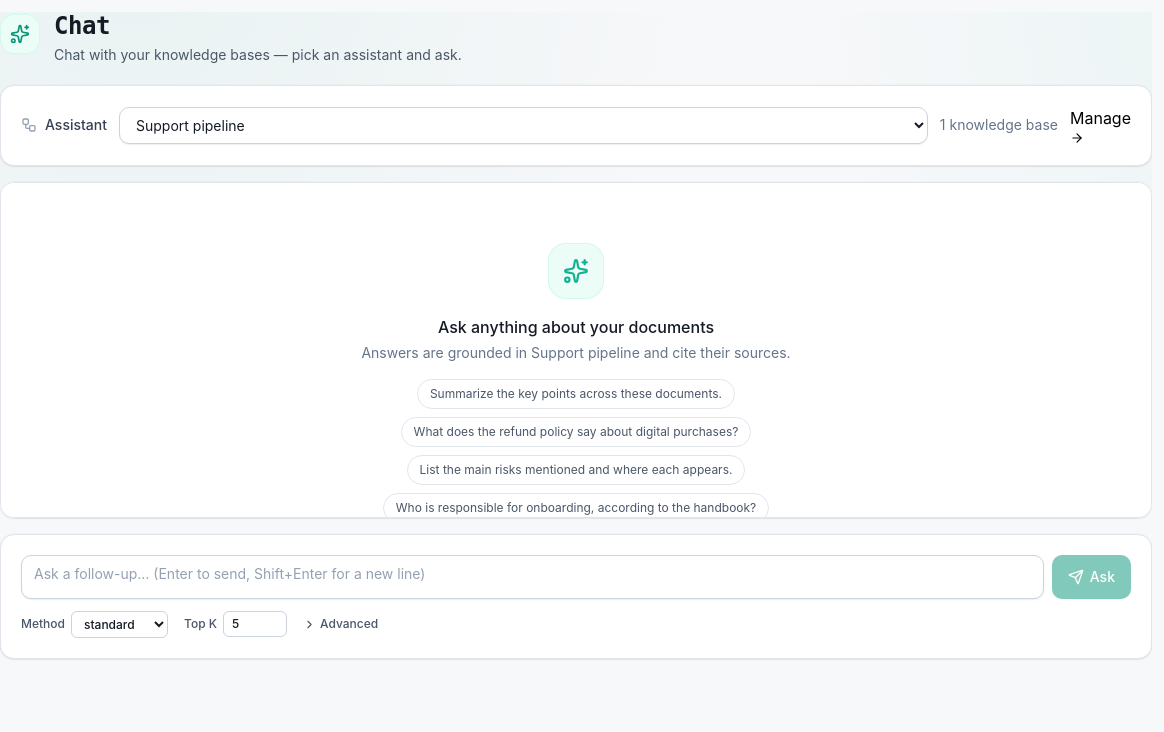
Scenario: AskPage › renders Auto/Manual badges from the response's applied_parameters (#1733)
Expected: the text "Ask anything about your documents" is shown, top-left (438, 317), bottom-right (714, 337)
Replace the text in the number field labelled "Top K" with "12" at (255, 624), box top-left (223, 611), bottom-right (287, 637)
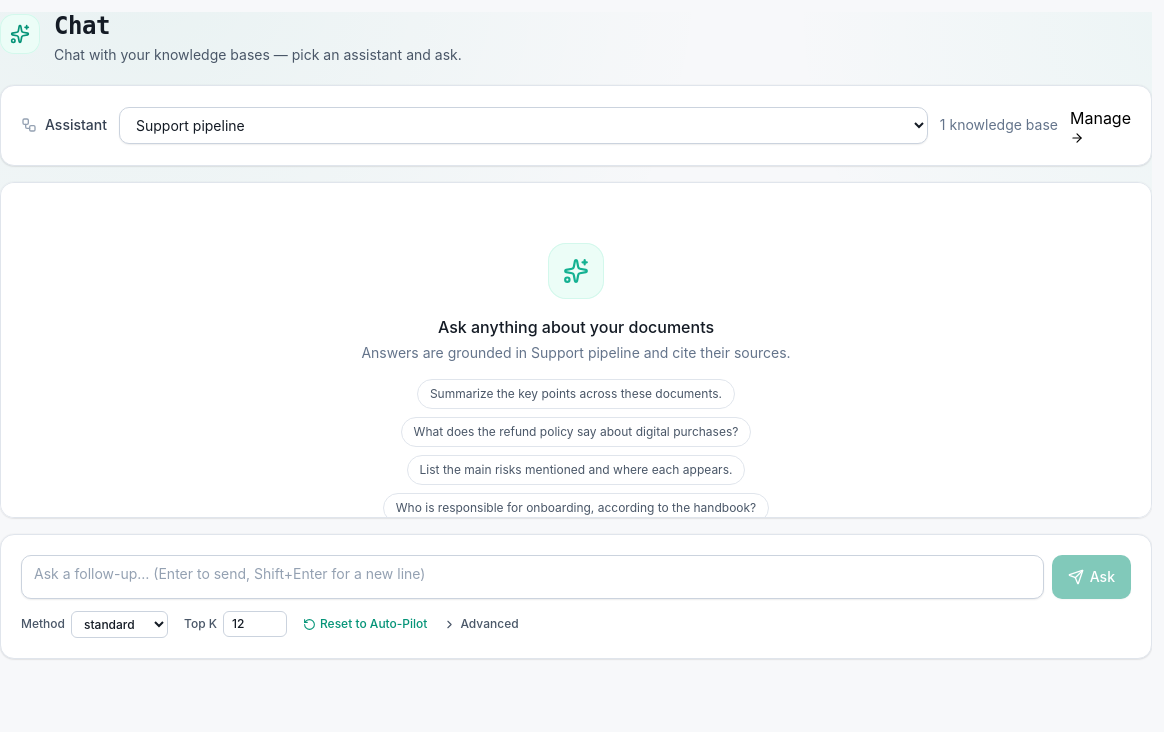
Type "hi" into the text box named "Your question".
click(532, 577); type("hi")  # box top-left (21, 555), bottom-right (1044, 599)
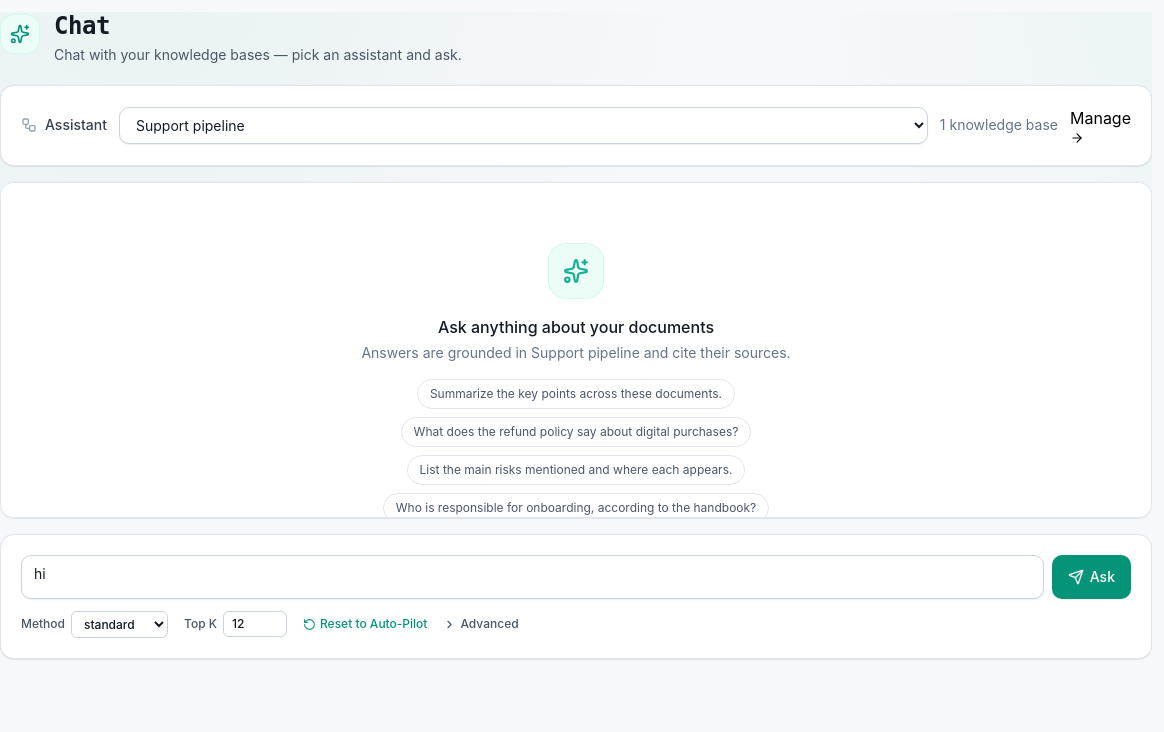
Click the button "Ask".
click(1091, 577)  # box top-left (1052, 555), bottom-right (1131, 599)
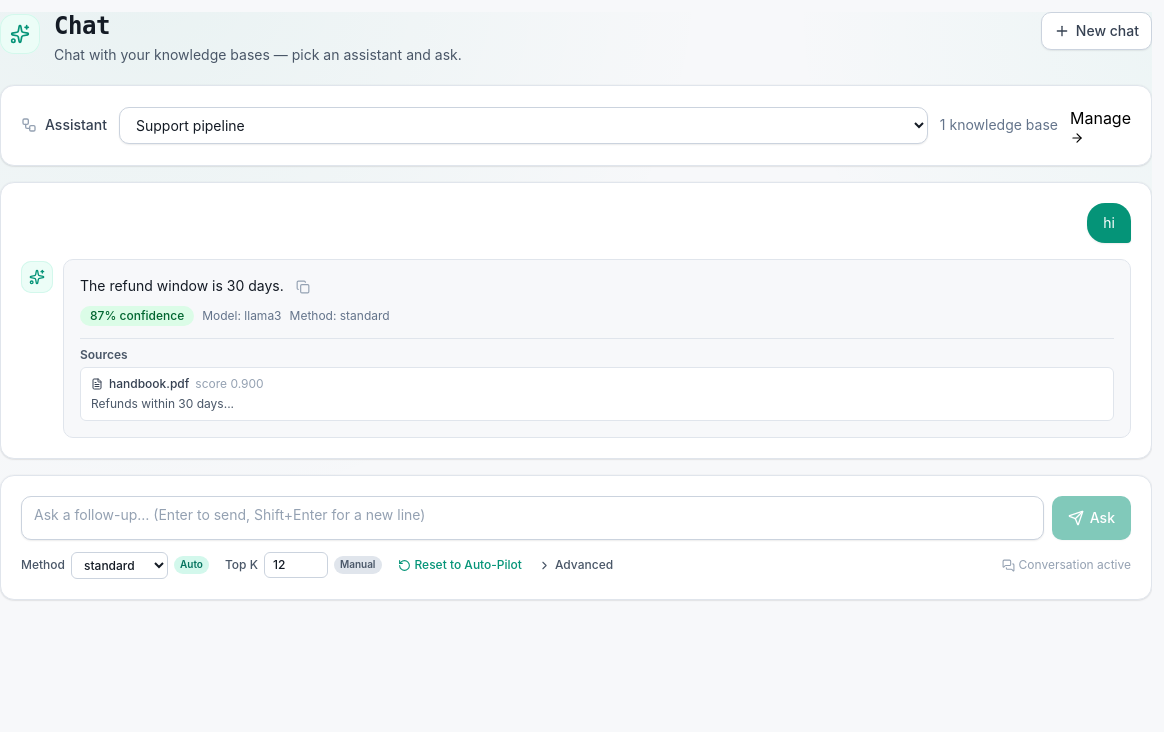
Expected: the text "The refund window is 30 days." is shown, top-left (80, 276), bottom-right (284, 296)
Expected: the label labelled "Method Auto" is shown, top-left (21, 552), bottom-right (209, 579)
